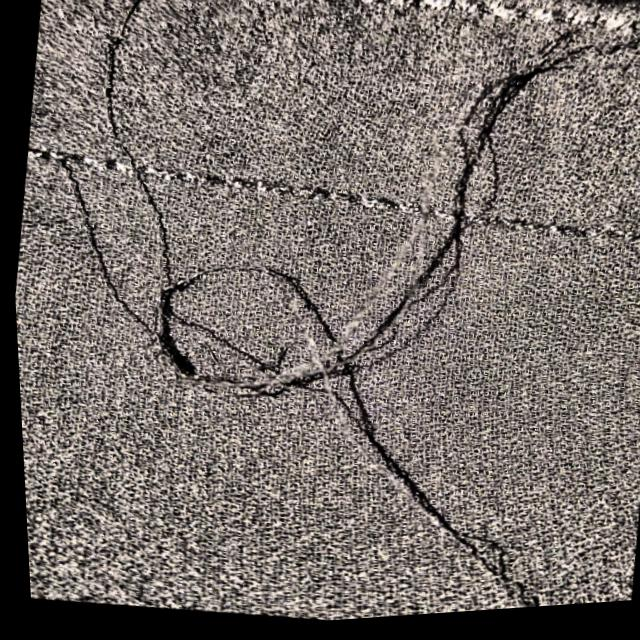Stitch: (51, 0, 640, 637)
